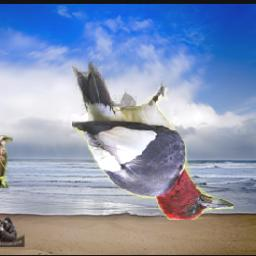Cuckoo: (0, 135, 13, 188)
Woodpecker: (72, 63, 233, 221)
